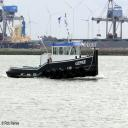tugboat: (6, 38, 100, 83)
